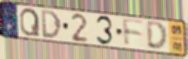2: (70, 12, 91, 45)
3: (93, 15, 115, 46)
D: (145, 21, 169, 52), (40, 9, 63, 40)
F: (121, 17, 146, 48)
Q: (19, 7, 42, 37)
